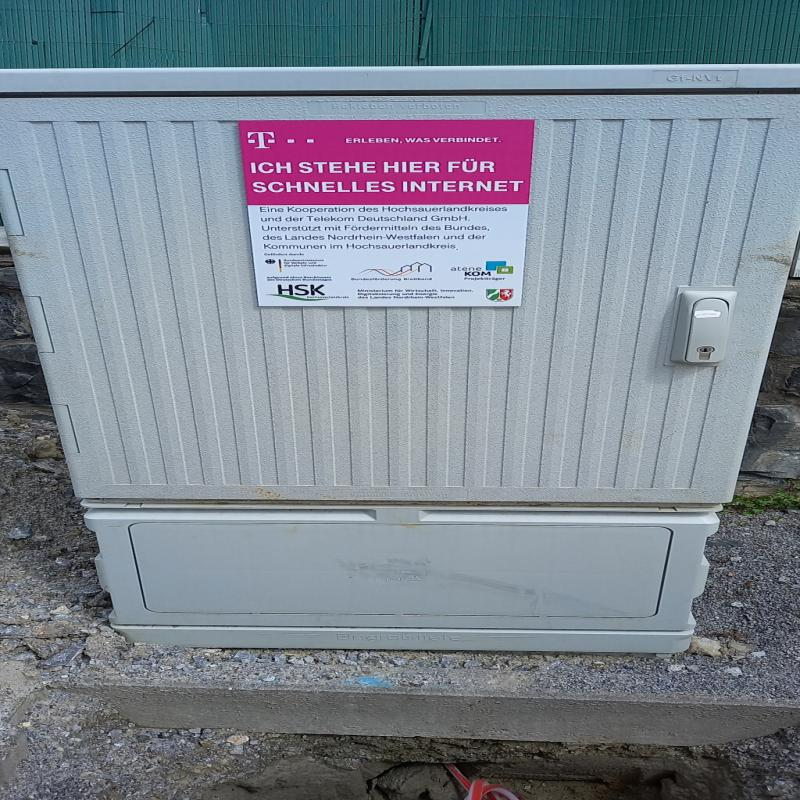NT-Gehause: (0, 67, 800, 652)
Steaker: (235, 114, 529, 310)
